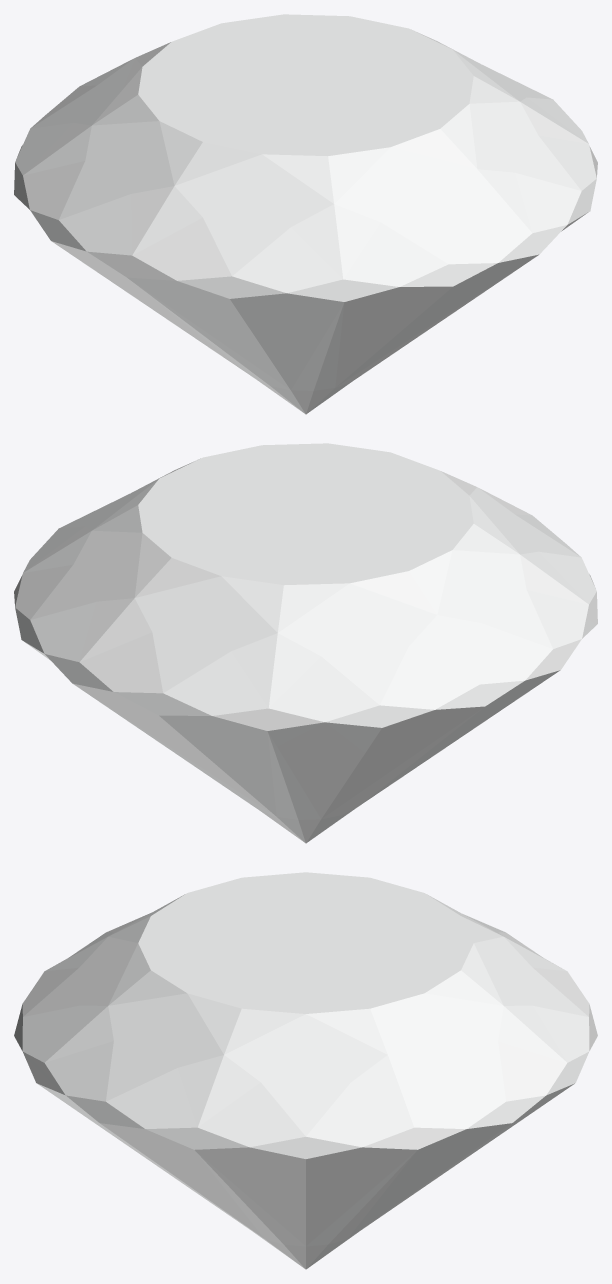
The model's file is Diamond.fbx.
3 views of the same model, one above another, from view 1: azimuth 30°, elevation 25°; view 2: azimuth 150°, elevation 25°; view 3: azimuth 270°, elevation 25° (orthographic).
Parts seen in each view (by area): view 1: pCone1; view 2: pCone1; view 3: pCone1.
Part boxes in pixels (box(x1,y1,x2,y2)): pCone1: box(14, 14, 597, 414); pCone1: box(14, 443, 597, 843); pCone1: box(14, 872, 597, 1269).
Size of the model in its own units: 200 by 123 by 200.
